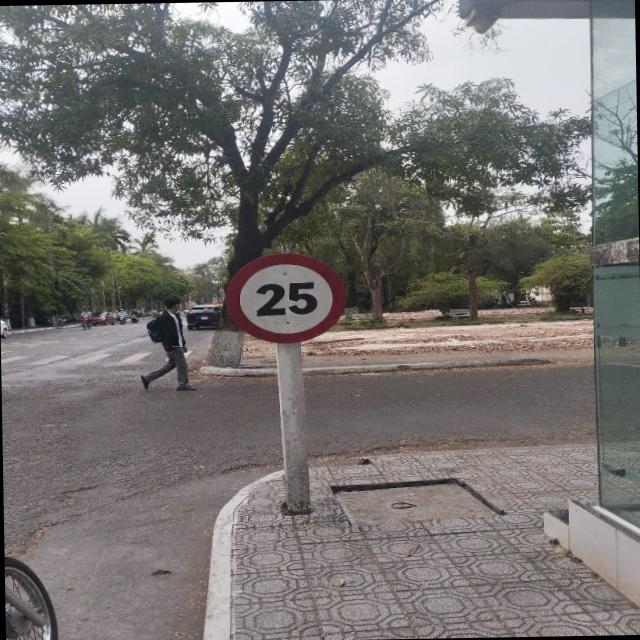Tre_Em: (223, 251, 347, 345)
